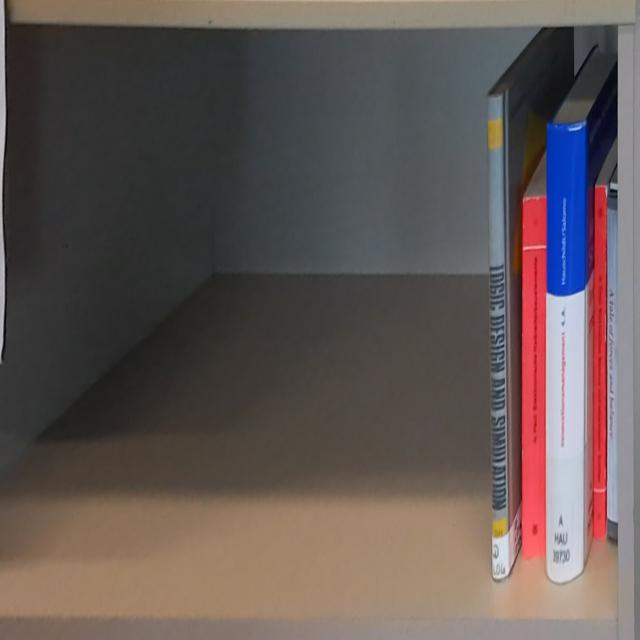Book Spine: (546, 120, 584, 584), (486, 92, 511, 579), (523, 195, 546, 557), (594, 181, 608, 539), (606, 194, 618, 543)
